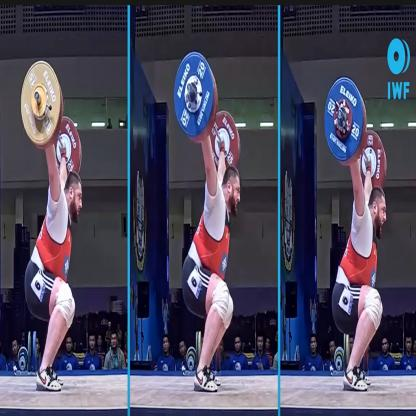Barbell: (172, 38, 227, 146), (13, 54, 72, 154), (323, 72, 371, 177)
